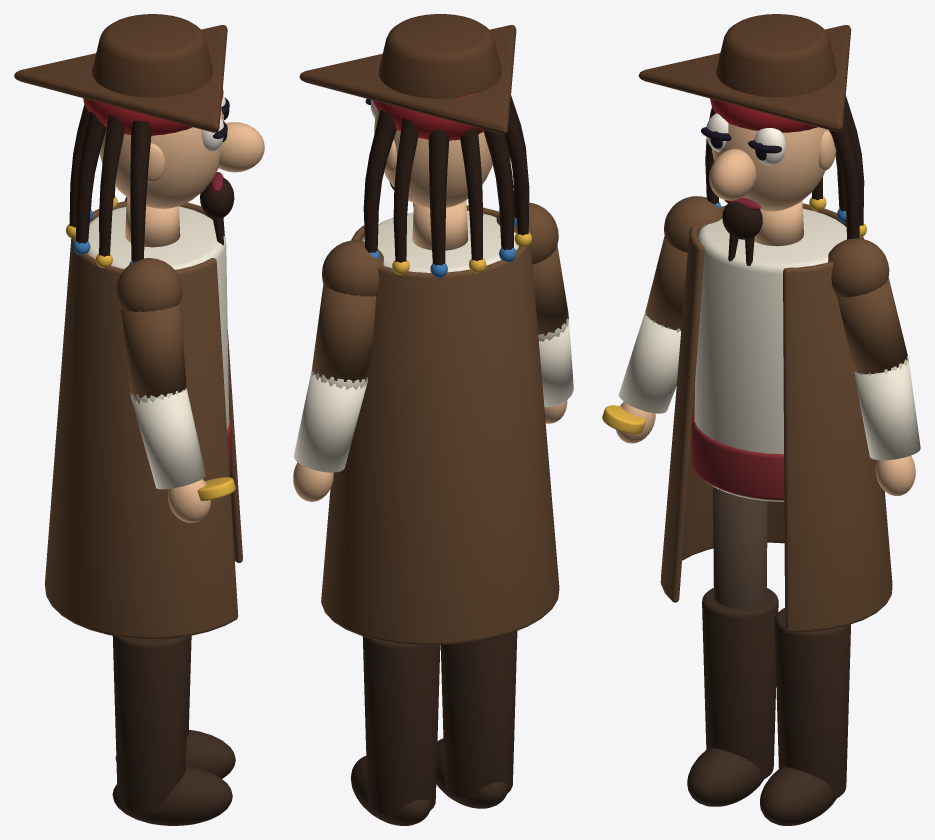
Rendered from jack.glb.
3 views of the same model, side by side, from view 1: azimuth 30°, elevation 25°; view 2: azimuth 150°, elevation 25°; view 3: azimuth 270°, elevation 25° (orthographic). The views are drawn at different scales.
Visible parts, largest first — view 1: Jk_Mantel.001, Jk_StiefelR.001, Jk_HutKopf.001, Jk_Krempe.001, Jk_Hemd.001, Jk_OAR.001, Jk_UAR.001, Jk_Kopf.001, Jk_SchuhR.001, Jk_ShKR.001, Jk_Locke6.001, Jk_Locke4.001 (+10 smaller); view 2: Jk_Mantel.001, Jk_StiefelL.001, Jk_StiefelR.001, Jk_HutKopf.001, Jk_Krempe.001, Jk_OAL.001, Jk_UAL.001, Jk_Hemd.001, Jk_Kopf.001, Jk_ShKL.001, Jk_Locke0.001, Jk_Locke2.001 (+12 smaller); view 3: Jk_Mantel.001, Jk_Hemd.001, Jk_StiefelR.001, Jk_StiefelL.001, Jk_HutKopf.001, Jk_Krempe.001, Jk_BeinR.001, Jk_Kopf.001, Jk_UAL.001, Jk_OAL.001, Jk_Schaerpe.001, Jk_UAR.001 (+15 smaller).
Part boxes in pixels (left/top/right/bottom): Jk_Mantel.001: left=44, top=201, right=242, bottom=639; Jk_StiefelR.001: left=112, top=635, right=189, bottom=815; Jk_HutKopf.001: left=92, top=14, right=213, bottom=97; Jk_Krempe.001: left=14, top=25, right=227, bottom=132; Jk_Hemd.001: left=87, top=206, right=229, bottom=430; Jk_OAR.001: left=121, top=303, right=186, bottom=397; Jk_UAR.001: left=132, top=388, right=205, bottom=489; Jk_Kopf.001: left=99, top=108, right=224, bottom=208; Jk_SchuhR.001: left=112, top=766, right=232, bottom=825; Jk_ShKR.001: left=116, top=258, right=182, bottom=311; Jk_Locke6.001: left=130, top=120, right=151, bottom=262; Jk_Locke4.001: left=76, top=111, right=106, bottom=243; Jk_Mantel.001: left=321, top=205, right=559, bottom=645; Jk_StiefelL.001: left=362, top=636, right=440, bottom=818; Jk_StiefelR.001: left=440, top=631, right=517, bottom=800; Jk_HutKopf.001: left=378, top=14, right=501, bottom=98; Jk_Krempe.001: left=299, top=25, right=516, bottom=134; Jk_OAL.001: left=312, top=284, right=376, bottom=382; Jk_UAL.001: left=294, top=369, right=367, bottom=472; Jk_Hemd.001: left=361, top=210, right=518, bottom=272; Jk_Kopf.001: left=374, top=110, right=492, bottom=207; Jk_ShKL.001: left=322, top=240, right=383, bottom=296; Jk_Locke0.001: left=363, top=109, right=396, bottom=252; Jk_Locke2.001: left=428, top=130, right=449, bottom=265; Jk_Mantel.001: left=660, top=203, right=892, bottom=632; Jk_Hemd.001: left=694, top=208, right=846, bottom=501; Jk_StiefelR.001: left=702, top=588, right=778, bottom=780; Jk_StiefelL.001: left=774, top=608, right=850, bottom=799; Jk_HutKopf.001: left=716, top=14, right=836, bottom=97; Jk_Krempe.001: left=638, top=25, right=851, bottom=131; Jk_BeinR.001: left=713, top=486, right=767, bottom=608; Jk_Kopf.001: left=711, top=113, right=828, bottom=211; Jk_UAL.001: left=854, top=361, right=920, bottom=460; Jk_OAL.001: left=837, top=278, right=907, bottom=374; Jk_Schaerpe.001: left=691, top=412, right=784, bottom=500; Jk_UAR.001: left=618, top=312, right=681, bottom=413.
Size of the model in its own units: 0.561 by 1.98 by 0.7445.
